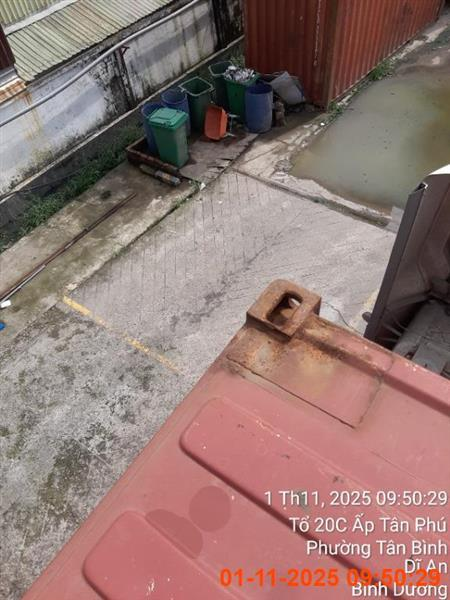hole: (20, 276, 449, 599)
